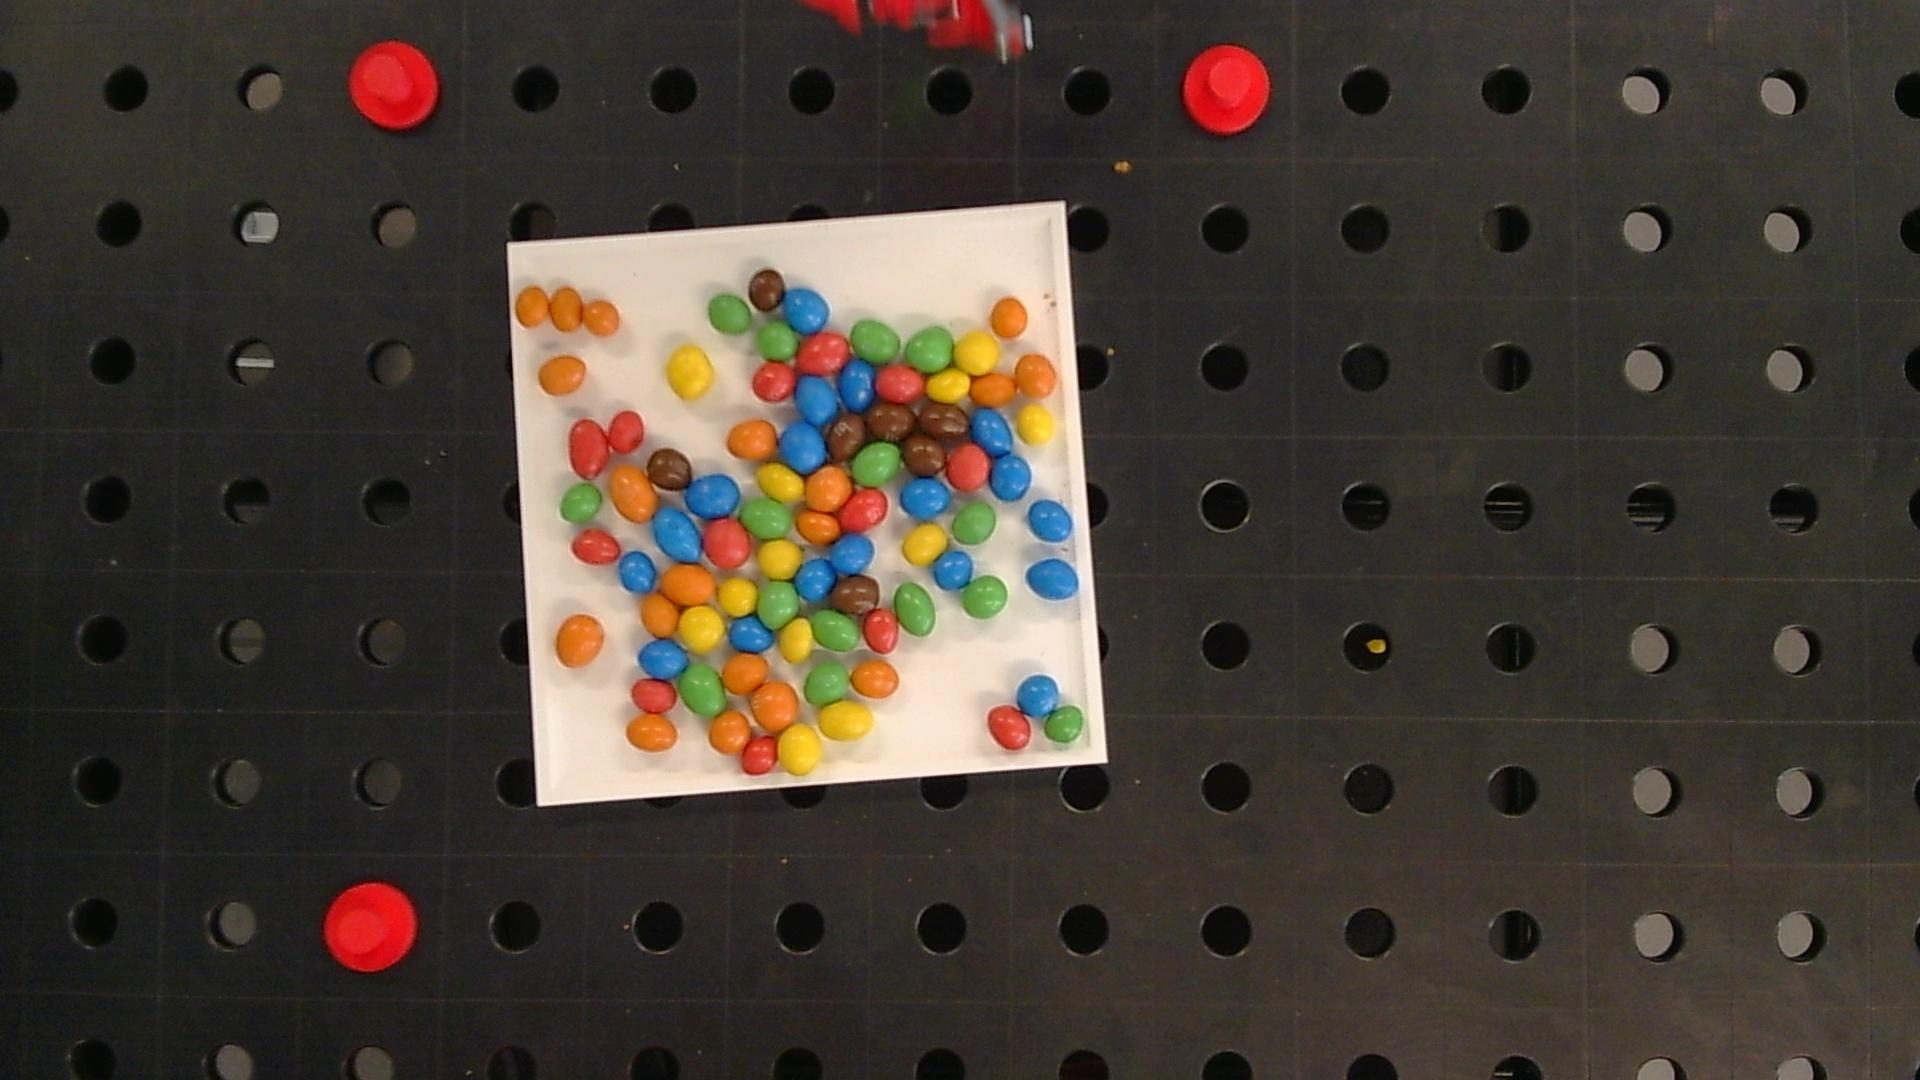blue: (654, 509, 702, 562), (686, 473, 740, 517), (781, 423, 827, 471), (1027, 559, 1079, 600), (796, 376, 839, 425), (785, 289, 829, 334), (901, 477, 949, 518), (839, 360, 876, 411), (1029, 500, 1072, 543), (640, 638, 687, 678), (990, 454, 1030, 500), (972, 409, 1011, 455), (794, 559, 835, 603), (832, 533, 874, 574), (1017, 675, 1060, 715), (729, 615, 773, 651), (934, 551, 973, 589), (620, 551, 655, 592)
brown: (920, 404, 969, 447), (646, 448, 692, 491), (868, 404, 916, 442), (902, 434, 944, 476), (827, 415, 866, 460), (833, 576, 880, 615), (749, 268, 786, 310)
green: (680, 663, 725, 715), (852, 442, 901, 488), (894, 583, 936, 636), (741, 497, 795, 538), (905, 327, 953, 372), (851, 320, 901, 363), (961, 576, 1009, 618), (812, 609, 860, 651), (804, 662, 849, 704), (758, 582, 800, 626), (953, 502, 997, 545), (707, 294, 752, 334), (559, 484, 601, 524), (1044, 705, 1085, 745), (758, 323, 798, 360)
orange: (609, 465, 657, 522), (556, 613, 604, 666), (752, 680, 798, 731), (727, 419, 778, 460), (662, 566, 715, 604), (806, 467, 851, 509), (1015, 353, 1058, 397), (709, 711, 752, 754), (626, 715, 678, 750), (851, 661, 899, 698), (723, 654, 767, 694), (539, 356, 585, 394), (642, 592, 678, 636), (972, 373, 1017, 406), (990, 298, 1027, 338), (795, 512, 841, 543), (550, 286, 582, 330), (516, 286, 549, 326), (584, 301, 620, 335)
red: (568, 419, 608, 479), (795, 332, 849, 375), (703, 520, 750, 567), (947, 444, 990, 491), (839, 489, 887, 530), (986, 705, 1031, 749), (876, 365, 924, 401), (753, 363, 796, 401), (571, 530, 620, 563), (608, 410, 645, 452), (864, 608, 898, 653), (632, 679, 676, 712), (741, 737, 778, 774)
yellow: (667, 345, 713, 400), (818, 702, 873, 740), (778, 724, 820, 774), (679, 607, 725, 651), (955, 331, 998, 373), (902, 524, 947, 564), (758, 464, 804, 501), (758, 541, 802, 579), (1018, 404, 1055, 444), (779, 618, 814, 662), (926, 369, 971, 401), (719, 578, 757, 615)
